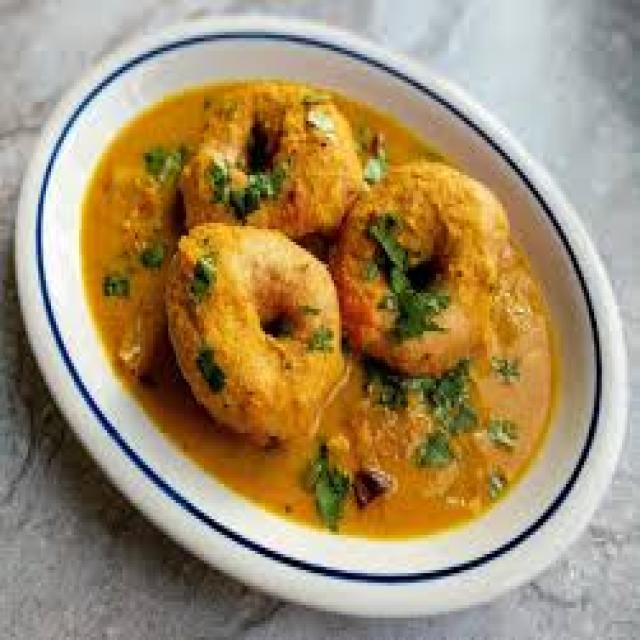MEDU VADA: (164, 177, 349, 447), (168, 222, 345, 440), (336, 160, 507, 373), (184, 82, 360, 233), (406, 222, 457, 308), (237, 121, 288, 175), (259, 298, 302, 347)
